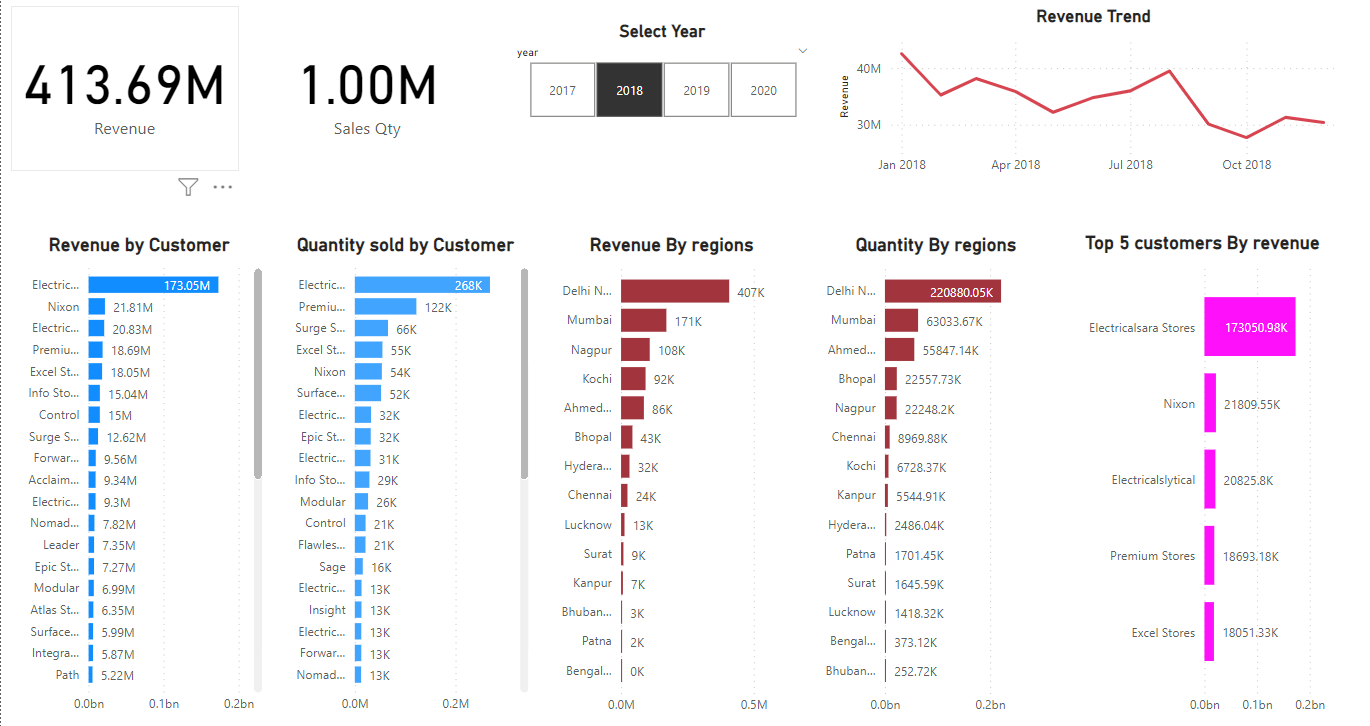

The page's visual inventory and layout, read from the dashboard file:
{"tool":"powerbi","page":{"name":"Page 1","canvas":[1340,720],"ordinal":0},"visuals":[{"type":"card","fields":{"Values":["BaseMeasure.Revenue"]},"box":[9.8,9.8,222.5,161.4],"z":0},{"type":"card","fields":{"Values":["BaseMeasure.Sales Qty"]},"box":[246.9,9.8,222.5,161.4],"z":1000},{"type":"barChart","title":"Revenue by Customer","fields":{"Category":["sales customers.custmer_name"],"Y":["BaseMeasure.Revenue"]},"box":[9.8,232.3,250.6,478],"z":2000},{"type":"barChart","title":"Quantity sold by Customer","fields":{"Category":["sales customers.custmer_name"],"Y":["BaseMeasure.Sales Qty"]},"box":[270,232.3,250.6,478],"z":3000},{"type":"slicer","title":"Select Year","fields":{"Values":["sales date.year"]},"box":[491.3,24.4,310.3,100.6],"z":4000},{"type":"barChart","title":"Revenue By regions","fields":{"Category":["sales markets.markets_name"],"Y":["BaseMeasure.Sales Qty"]},"box":[530,232,250.6,479.2],"z":5000},{"type":"barChart","title":"Quantity By regions","fields":{"Category":["sales markets.markets_name"],"Y":["BaseMeasure.Revenue"]},"box":[790,232,249.4,479.2],"z":6000},{"type":"barChart","title":"Top 5 customers By revenue","fields":{"Category":["sales customers.custmer_name"],"Y":["BaseMeasure.Revenue"]},"box":[1050.1,231.3,250,480],"z":7000},{"type":"lineChart","title":"Revenue Trend","fields":{"Y":["BaseMeasure.Revenue"],"Category":["sales date.cy_date.Variation.Date Hierarchy.Year","sales date.cy_date.Variation.Date Hierarchy.Quarter","sales date.cy_date.Variation.Date Hierarchy.Month","sales date.cy_date.Variation.Date Hierarchy.Day"]},"box":[814.5,10.1,508.5,173.8],"z":8000}]}

Visuals, with their boxes in screenshot pixels (x1, y1, x2, y2), scaled from the page's 1340x720 canvas onto the 1370x726 screenshot:
card - BaseMeasure.Revenue: 10/10/238/173
card - BaseMeasure.Sales Qty: 252/10/480/173
"Revenue by Customer" barChart: 10/234/266/716
"Quantity sold by Customer" barChart: 276/234/532/716
"Select Year" slicer: 502/25/820/126
"Revenue By regions" barChart: 542/234/798/717
"Quantity By regions" barChart: 808/234/1063/717
"Top 5 customers By revenue" barChart: 1074/233/1329/717
"Revenue Trend" lineChart: 833/10/1353/185
